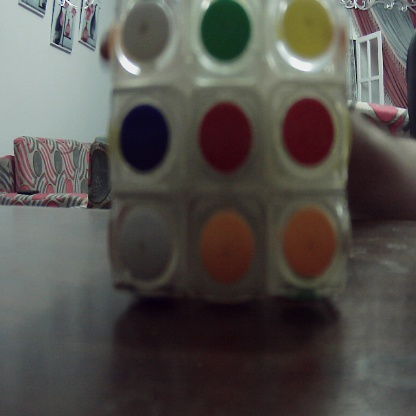Rubix Cube: (114, 3, 349, 293)
